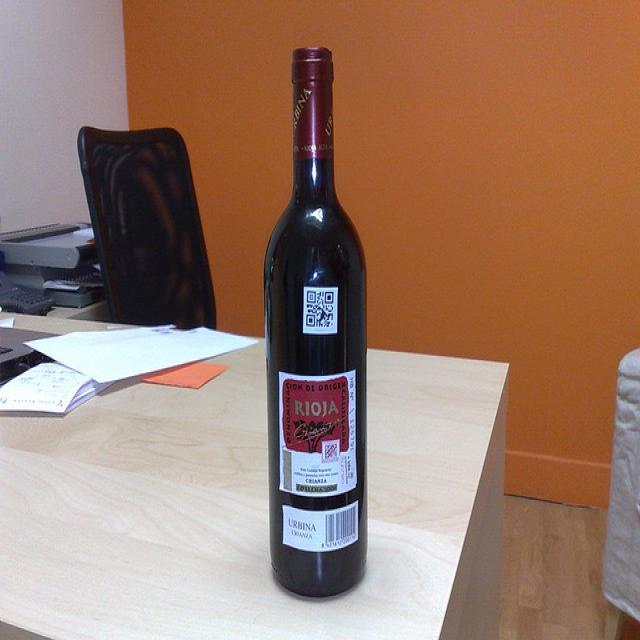qrcode: (307, 292, 334, 326)
